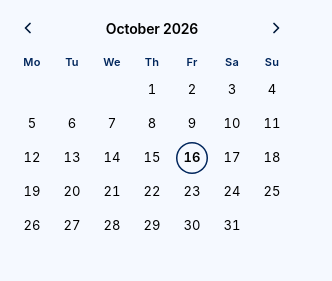
LMiniCalendar › blättert mit den Monatspfeilen vor und zurück
Click the button named "Next month".
click(276, 28)  # box top-left (260, 12), bottom-right (292, 44)
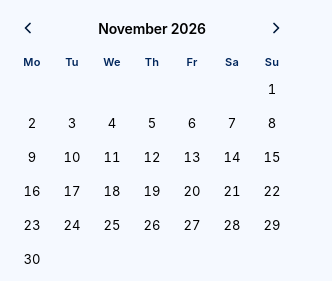
Expected: the text with class "cal__title" reads "November 2026", top-left (98, 20), bottom-right (206, 36)
Click the button named "Previous month".
click(28, 28)  # box top-left (12, 12), bottom-right (44, 44)
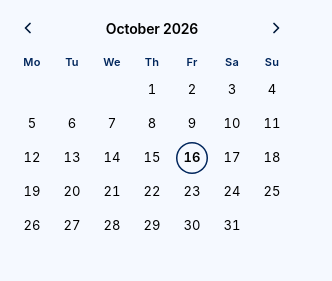
Click the button named "Previous month".
click(28, 28)  # box top-left (12, 12), bottom-right (44, 44)
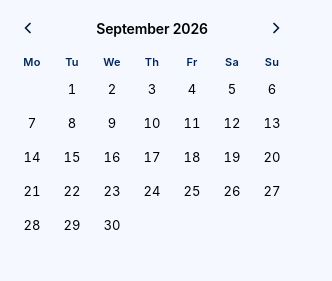
Expected: the text with class "cal__title" reads "September 2026", top-left (96, 20), bottom-right (208, 36)
